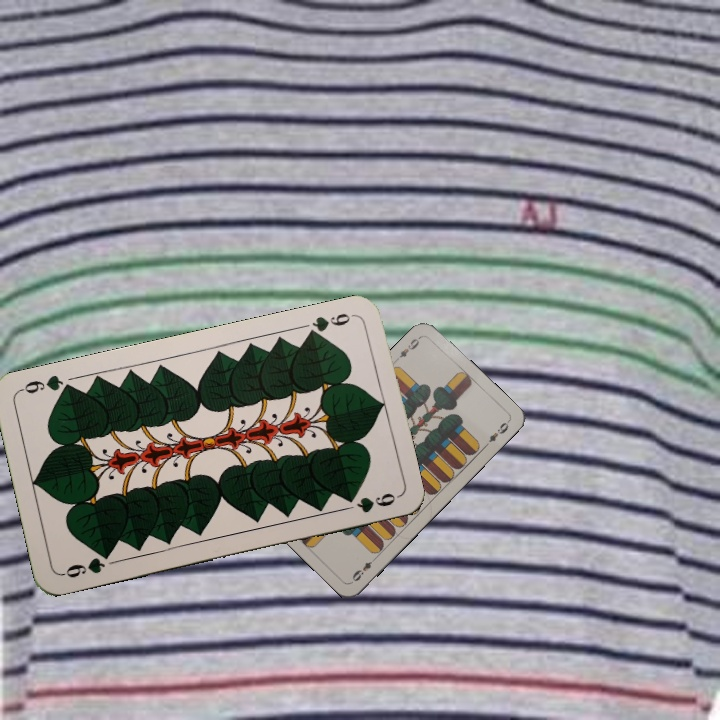E9: (391, 332, 424, 364), (348, 552, 379, 585)
G9: (58, 547, 114, 581), (302, 309, 358, 341)
